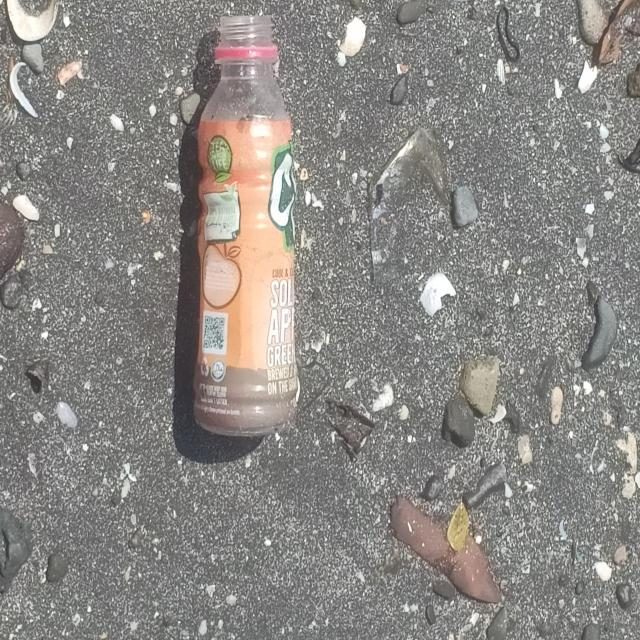plastic_waste: (196, 15, 298, 439)
